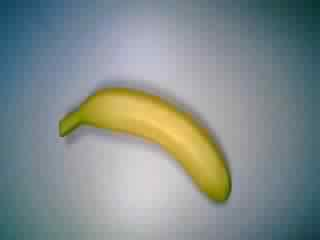banana: (56, 85, 235, 205)
